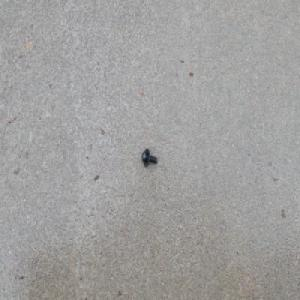BoltWasher: (141, 147, 157, 167)
